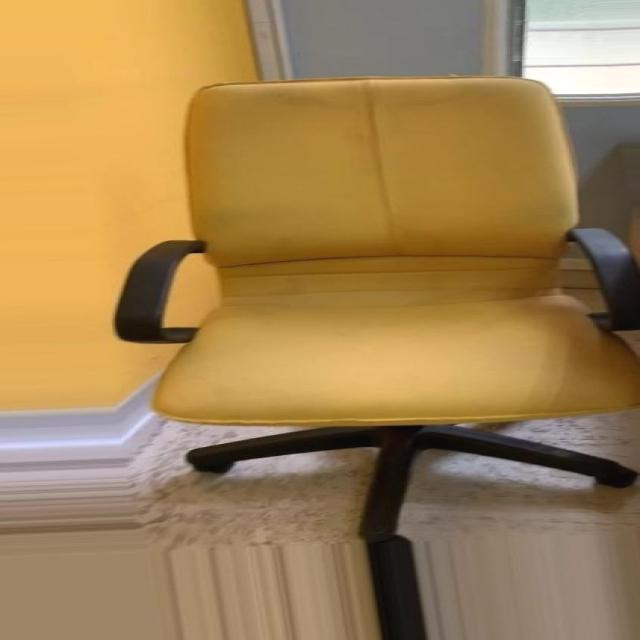Chair: (107, 74, 640, 552)
